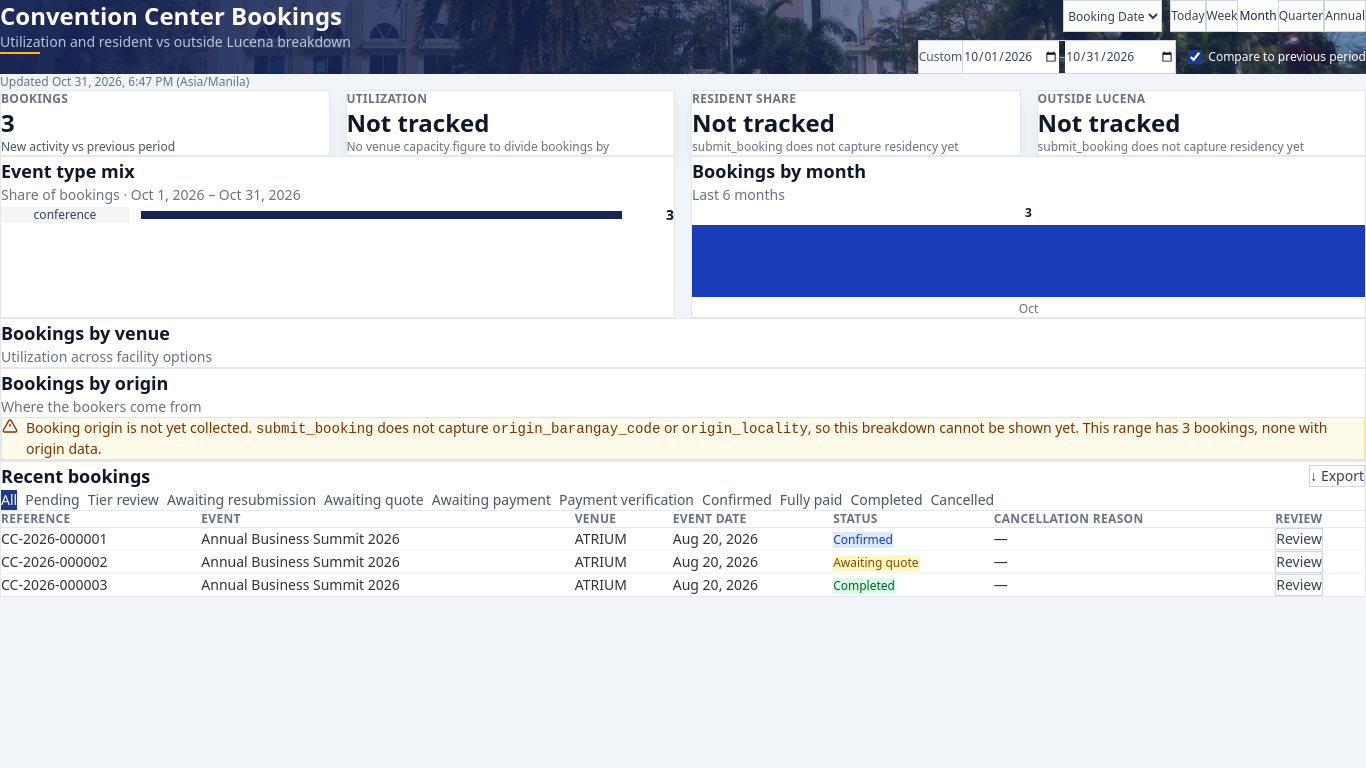
Test: ConventionCenterPage › status tabs filter on the real booking_status enum values
The image size is (1366, 768).
Expected: the text "CC-2026-000001" is shown, [1,528,201,550]
What coordinates should you click on to do the following:
click the tab "Awaiting quote"
I would click on:
 (374, 500)
Its box is [324,490,424,510].
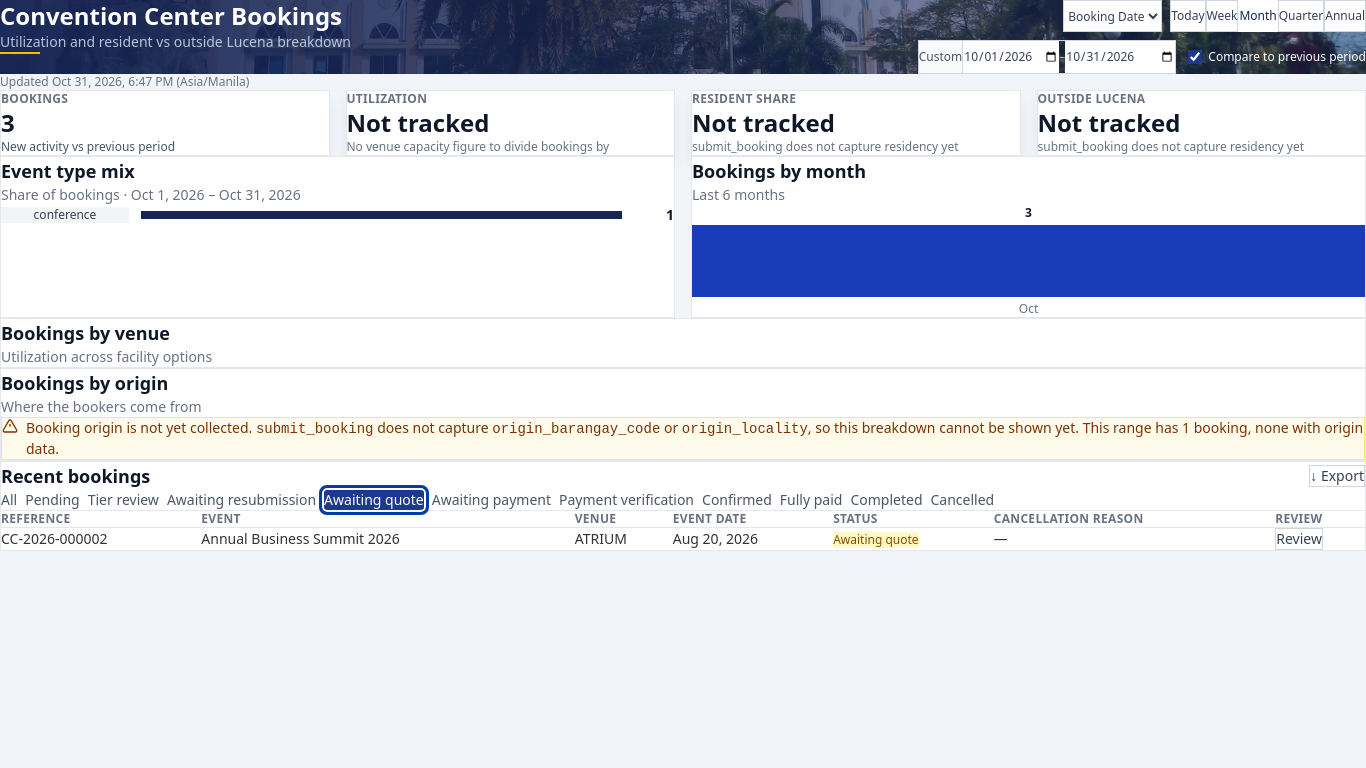
Expected: the text "CC-2026-000002" is shown, [1,528,201,550]
Expected: the text "CC-2026-000001" is gone
Expected: the text "CC-2026-000003" is gone
What coordinates should you click on to do the following:
click the tab "Completed"
I would click on:
 (886, 500)
Its box is [850,490,922,510].
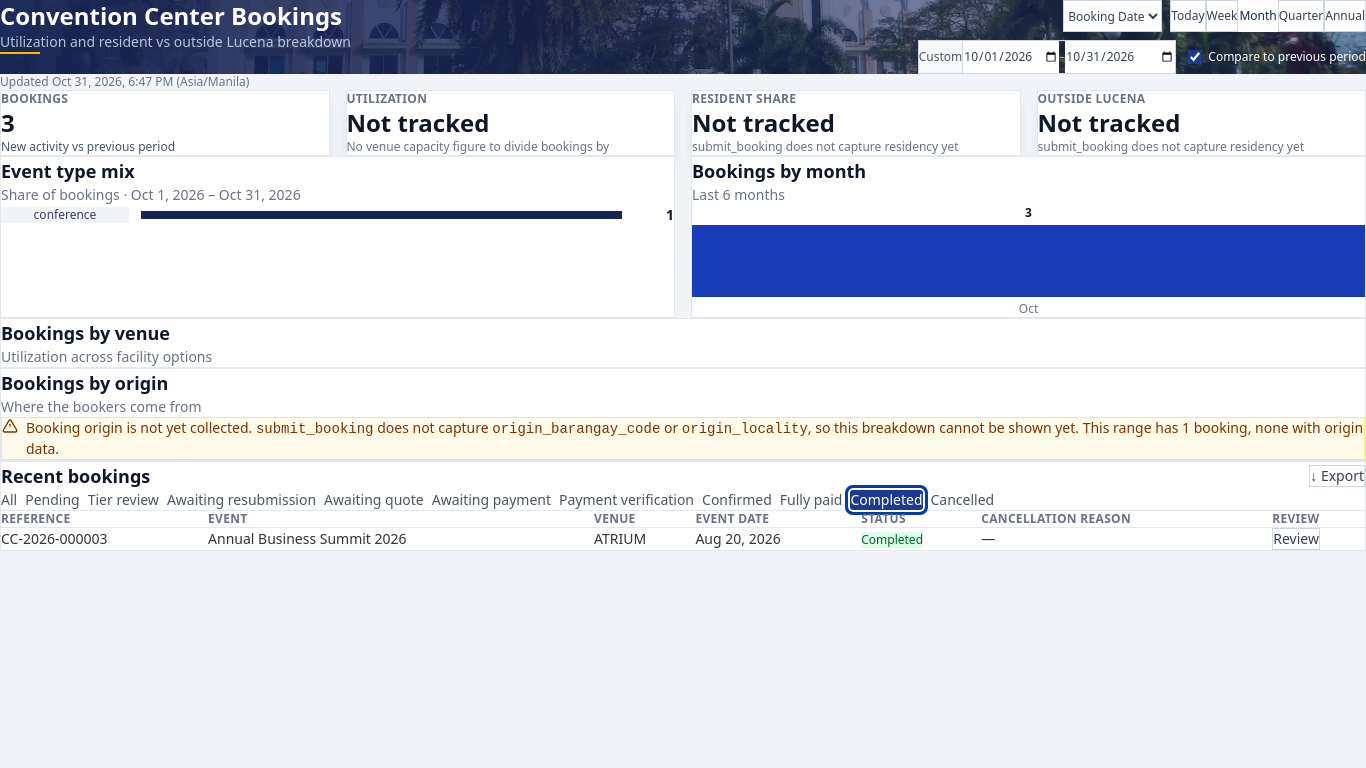
Expected: the text "CC-2026-000003" is shown, [1,528,208,550]
Expected: the text "CC-2026-000002" is gone
What coordinates should you click on to do the following:
click the tab "All"
I would click on:
 (9, 500)
Its box is [1,490,17,510].
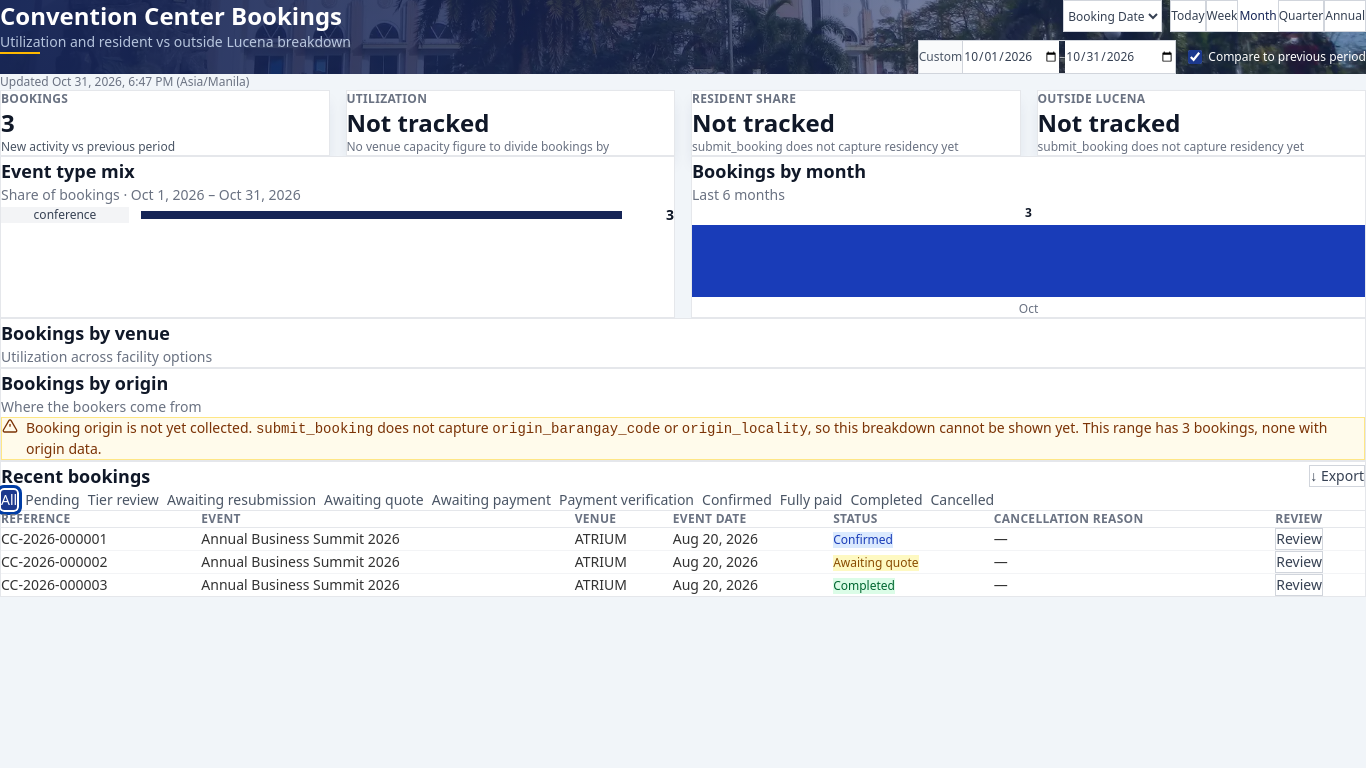
Expected: the text "CC-2026-000003" is shown, [1,574,201,596]
Expected: the text "CC-2026-000001" is shown, [1,528,201,550]
Expected: the text "CC-2026-000002" is shown, [1,550,201,574]
